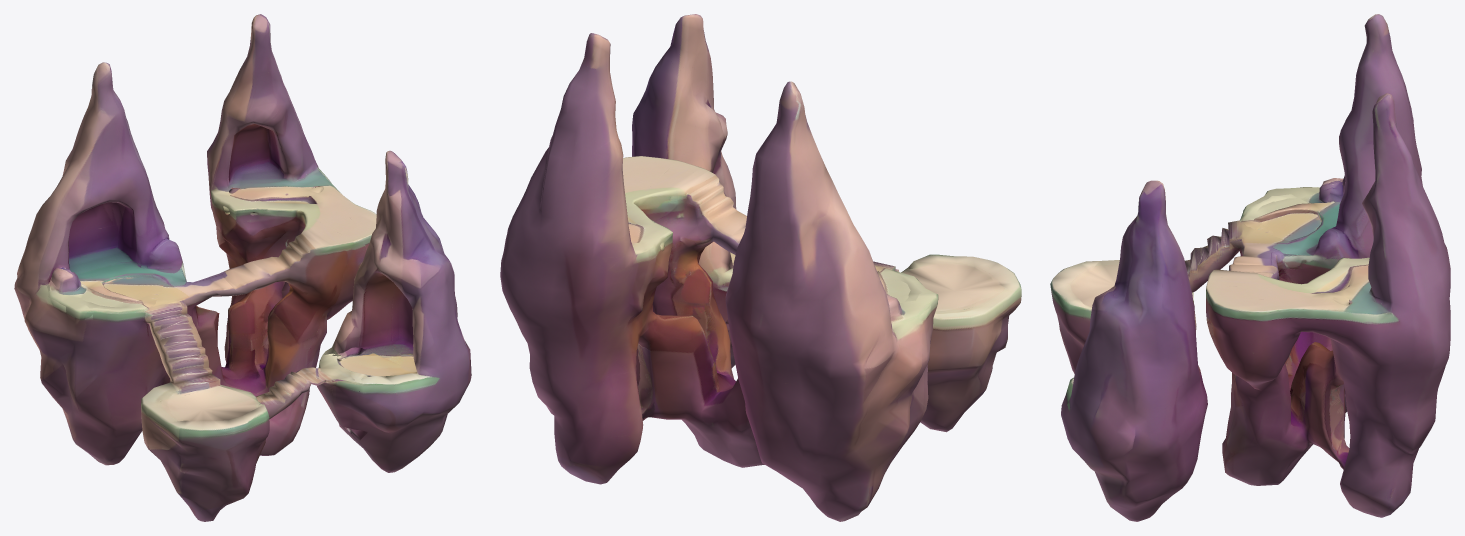
The model's file is Habitat_6 2.glb.
3 renders of one model, left to right at view 1: azimuth 30°, elevation 25°; view 2: azimuth 150°, elevation 25°; view 3: azimuth 270°, elevation 25°, orthographic. The views are drawn at different scales.
Size of the model in its own units: 1.81 by 1.91 by 1.64.
1 material, 1 textured.
